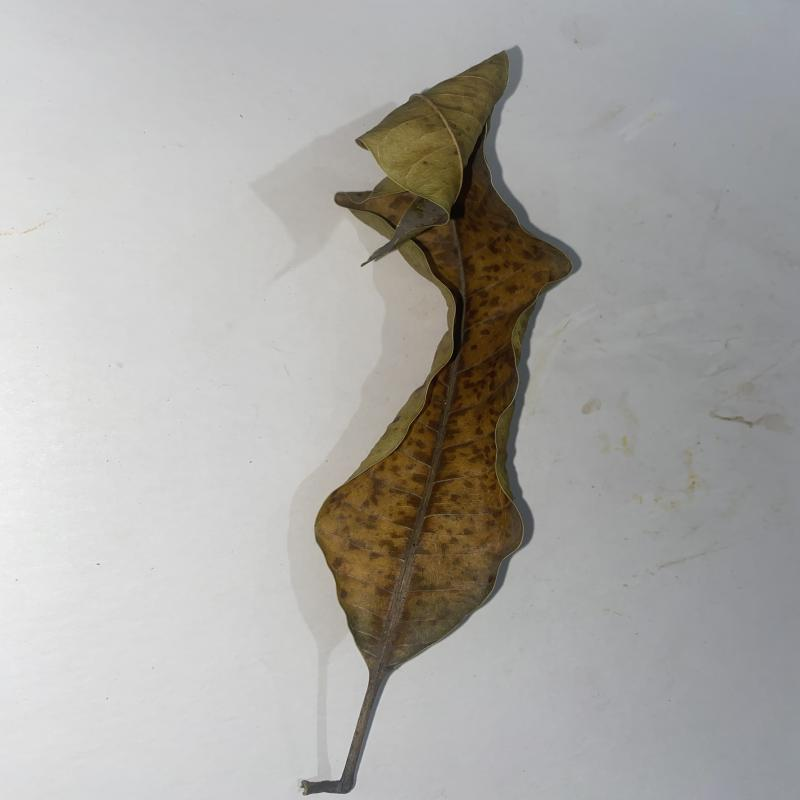treeleaves: (312, 47, 583, 796)
